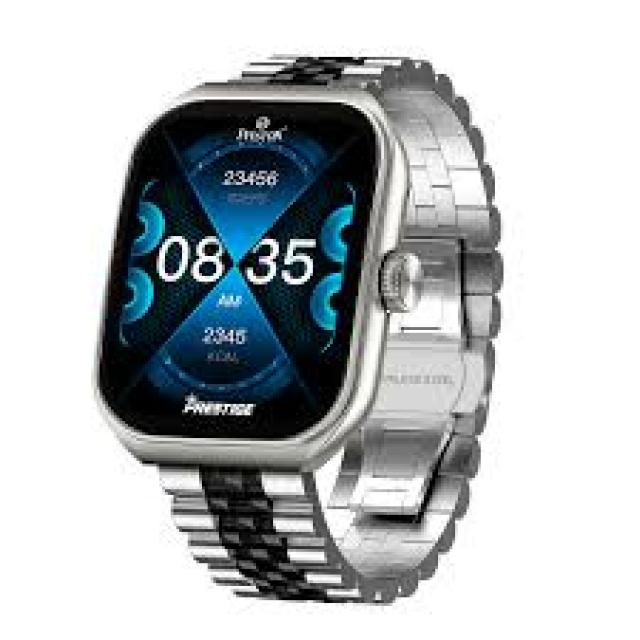objects: (100, 54, 498, 600)
